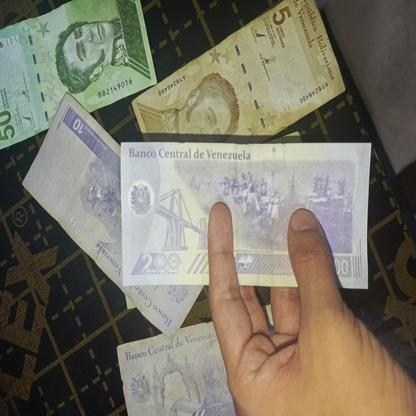fifty-front-vef: (0, 0, 156, 151)
five-front-vef: (132, 0, 347, 139)
ten-back-vef: (22, 94, 216, 340), (115, 303, 379, 416)
two_hundred-back-vef: (119, 141, 373, 290)
